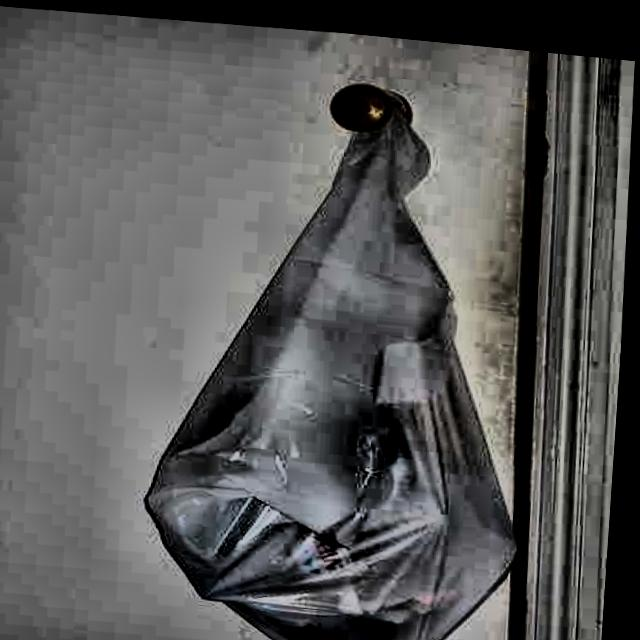Plastic: (130, 46, 570, 640)
